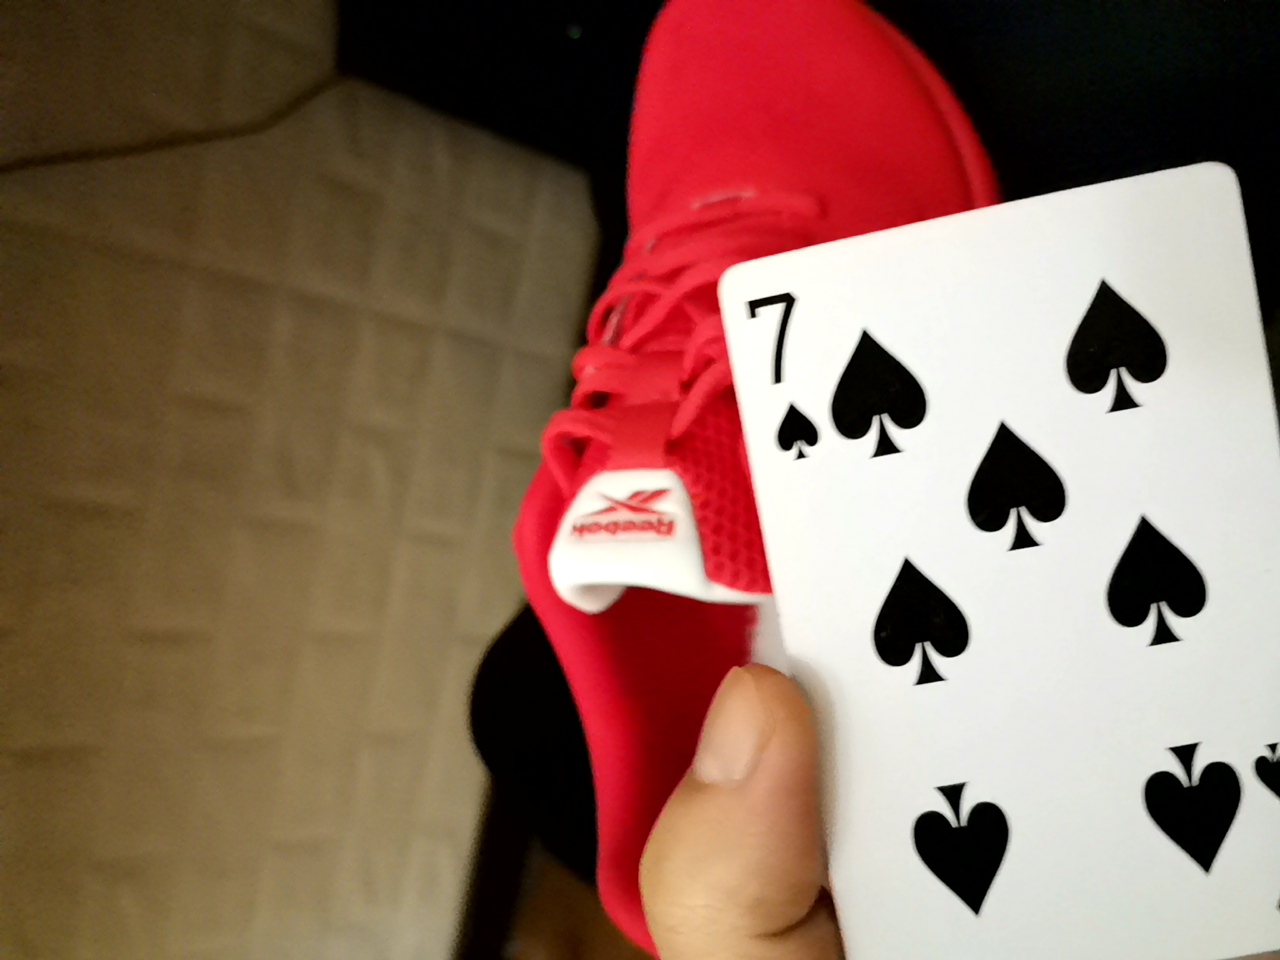ht 7: (653, 118, 1269, 959)
